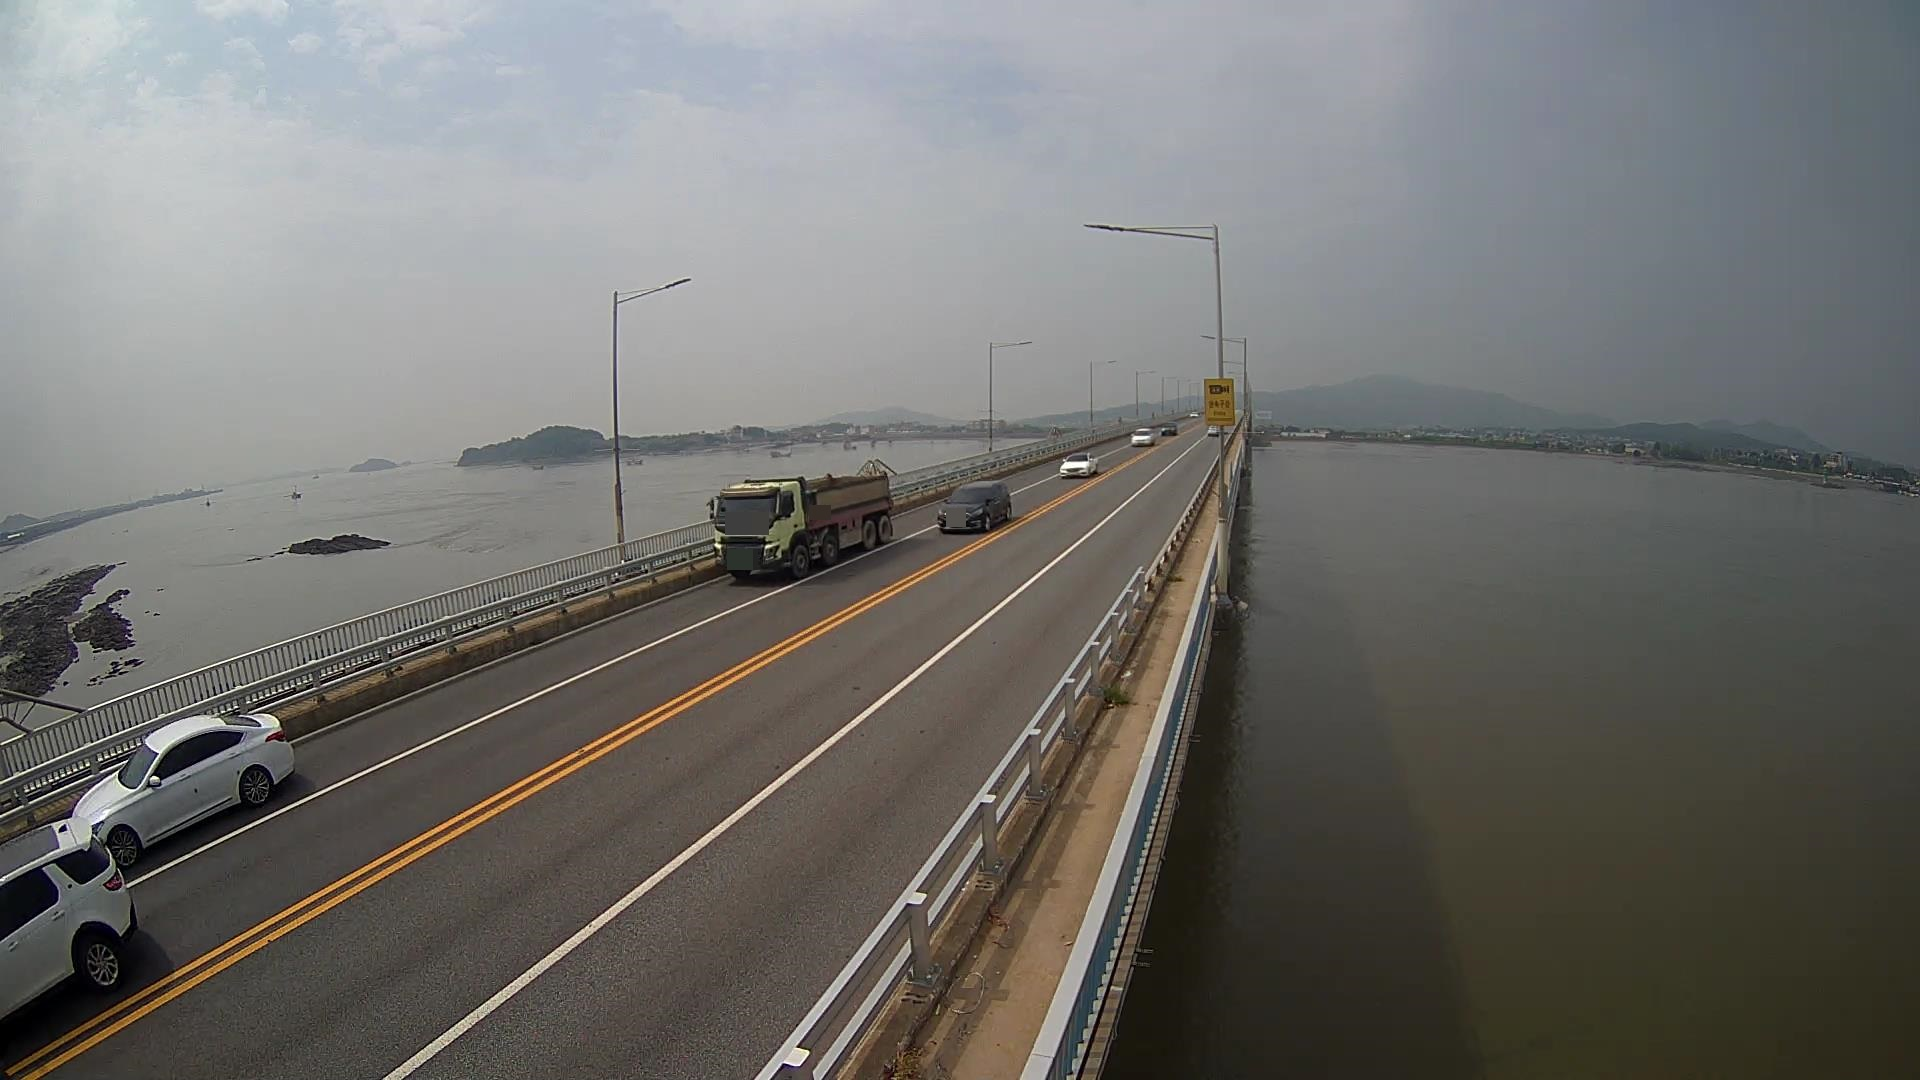정상차량: (707, 471, 893, 578)
